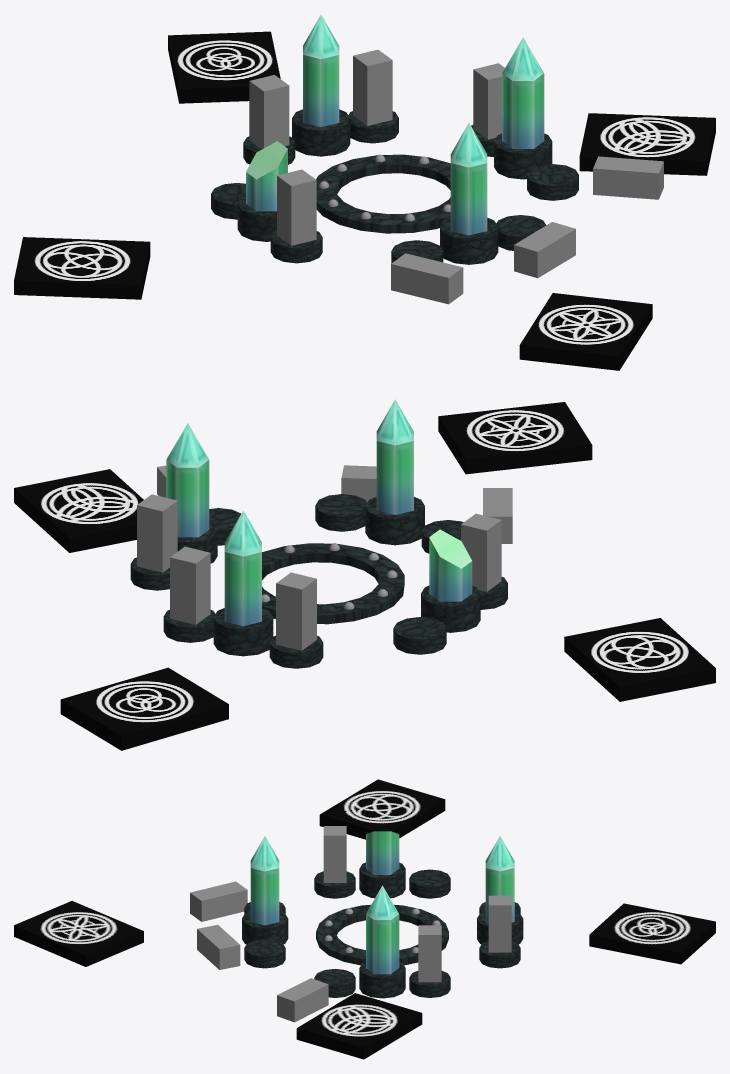
File: generator portal destroyed.FBX
3 views of the same model, one above another, from view 1: azimuth 30°, elevation 25°; view 2: azimuth 150°, elevation 25°; view 3: azimuth 270°, elevation 25° (orthographic). The views are drawn at different scales.
Visible parts, largest first — view 1: portal, symbol ordered, symbol timed, symbol RGB, symbol hinted, Crystal RGB, Crystal timed, crystal hinted, Box010, Object003, Box005, Box008 (+4 smaller); view 2: portal, symbol hinted, symbol timed, symbol ordered, symbol RGB, Crystal RGB, Crystal timed, crystal hinted, Box005, Object002, Object005, Object006 (+3 smaller); view 3: portal, symbol timed, symbol hinted, symbol RGB, symbol ordered, Crystal RGB, Crystal timed, Box010, crystal hinted, Box008, Box009, Object006 (+3 smaller).
Boxes of the visible parts, x1=… form: portal: x1=211, y1=109, x2=578, y2=264; symbol ordered: x1=14, y1=237, x2=150, y2=299; symbol timed: x1=519, y1=293, x2=652, y2=370; symbol RGB: x1=579, y1=113, x2=715, y2=175; symbol hinted: x1=168, y1=31, x2=280, y2=103; Crystal RGB: x1=502, y1=37, x2=544, y2=148; Crystal timed: x1=450, y1=123, x2=487, y2=235; crystal hinted: x1=303, y1=14, x2=339, y2=126; Box010: x1=391, y1=253, x2=463, y2=304; Object003: x1=277, y1=169, x2=316, y2=245; Box005: x1=353, y1=49, x2=392, y2=125; Box008: x1=593, y1=156, x2=663, y2=199; portal: x1=130, y1=494, x2=507, y2=668; symbol hinted: x1=60, y1=667, x2=228, y2=750; symbol timed: x1=438, y1=402, x2=592, y2=474; symbol ordered: x1=564, y1=618, x2=715, y2=701; symbol RGB: x1=14, y1=469, x2=143, y2=552; Crystal RGB: x1=166, y1=423, x2=209, y2=537; Crystal timed: x1=376, y1=399, x2=413, y2=514; crystal hinted: x1=224, y1=510, x2=261, y2=626; Box005: x1=170, y1=546, x2=210, y2=624; Object002: x1=276, y1=572, x2=316, y2=650; Object005: x1=137, y1=494, x2=177, y2=572; Object006: x1=429, y1=529, x2=472, y2=601; portal: x1=242, y1=862, x2=523, y2=998; symbol timed: x1=14, y1=901, x2=143, y2=966; symbol hinted: x1=589, y1=903, x2=715, y2=964; symbol RGB: x1=296, y1=993, x2=422, y2=1059; symbol ordered: x1=319, y1=779, x2=445, y2=839; Crystal RGB: x1=366, y1=885, x2=399, y2=974; Crystal timed: x1=250, y1=836, x2=279, y2=925; Box010: x1=190, y1=881, x2=247, y2=921; crystal hinted: x1=485, y1=836, x2=514, y2=922; Box008: x1=277, y1=978, x2=328, y2=1022; Box009: x1=197, y1=924, x2=240, y2=969; Object006: x1=366, y1=831, x2=399, y2=874.
Bounding box in the file's own units: 541 × 97.82 × 598.
